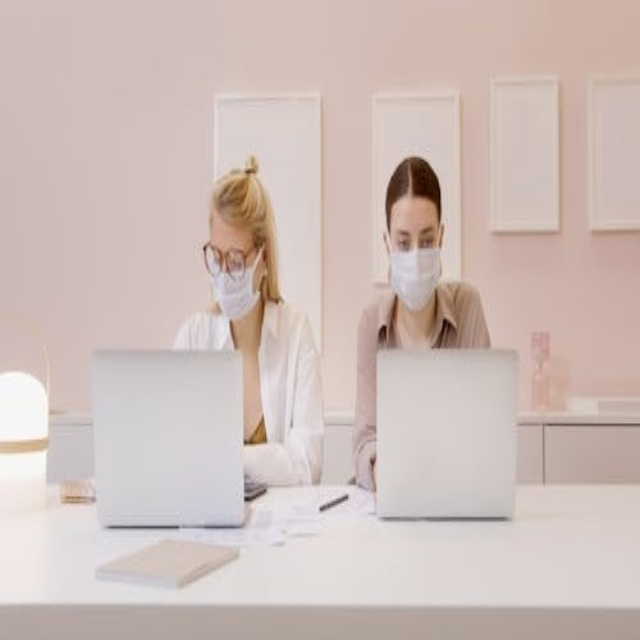Gafas: (203, 241, 260, 278)
Mascara: (208, 246, 264, 319), (388, 237, 442, 310)
Sin_gafas: (387, 223, 440, 260)
